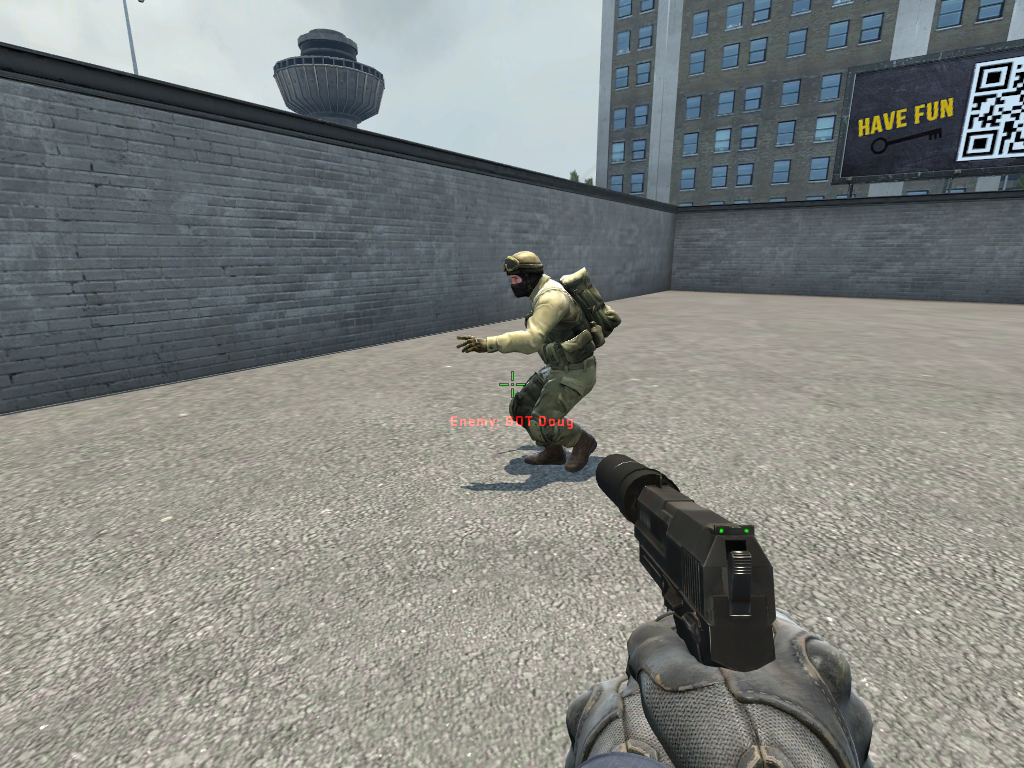ct head: (501, 244, 547, 300)
